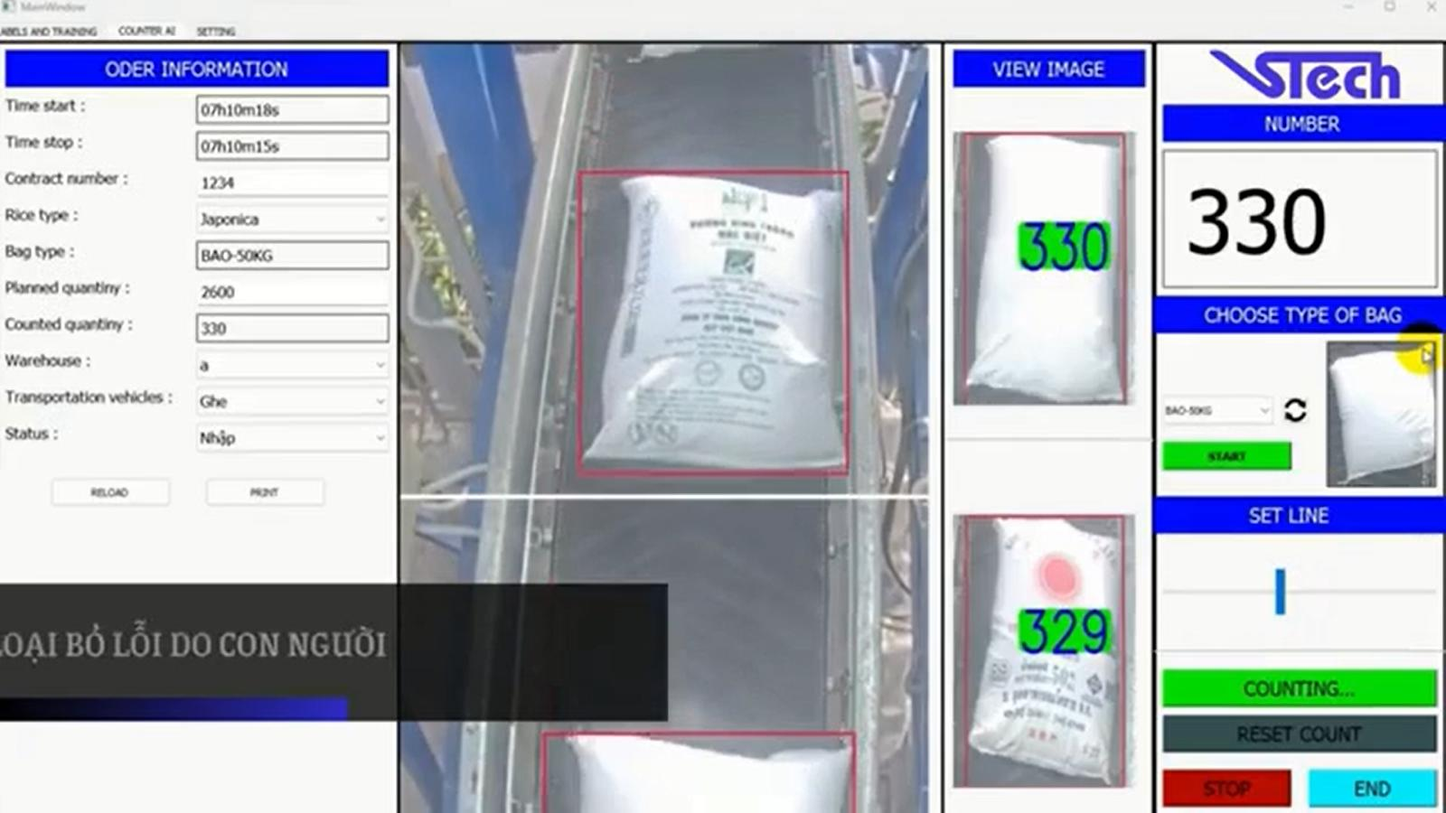rice-bag: (585, 175, 843, 469), (966, 135, 1123, 402), (969, 518, 1120, 779)
